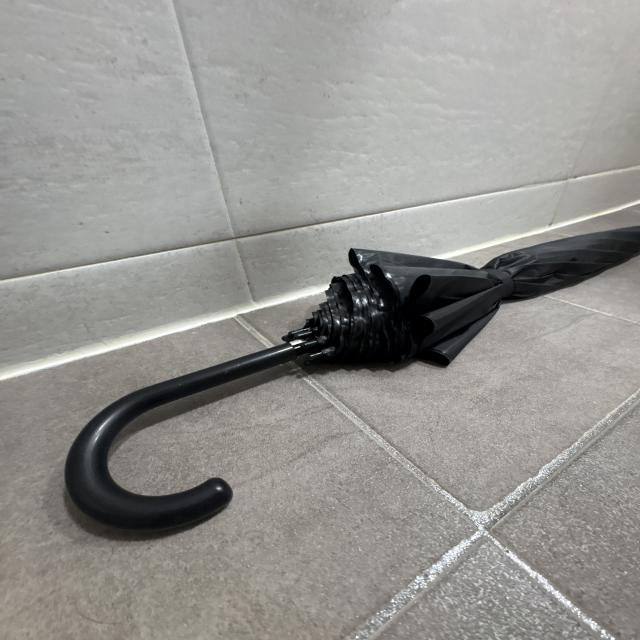umbrella: (61, 225, 640, 530)
